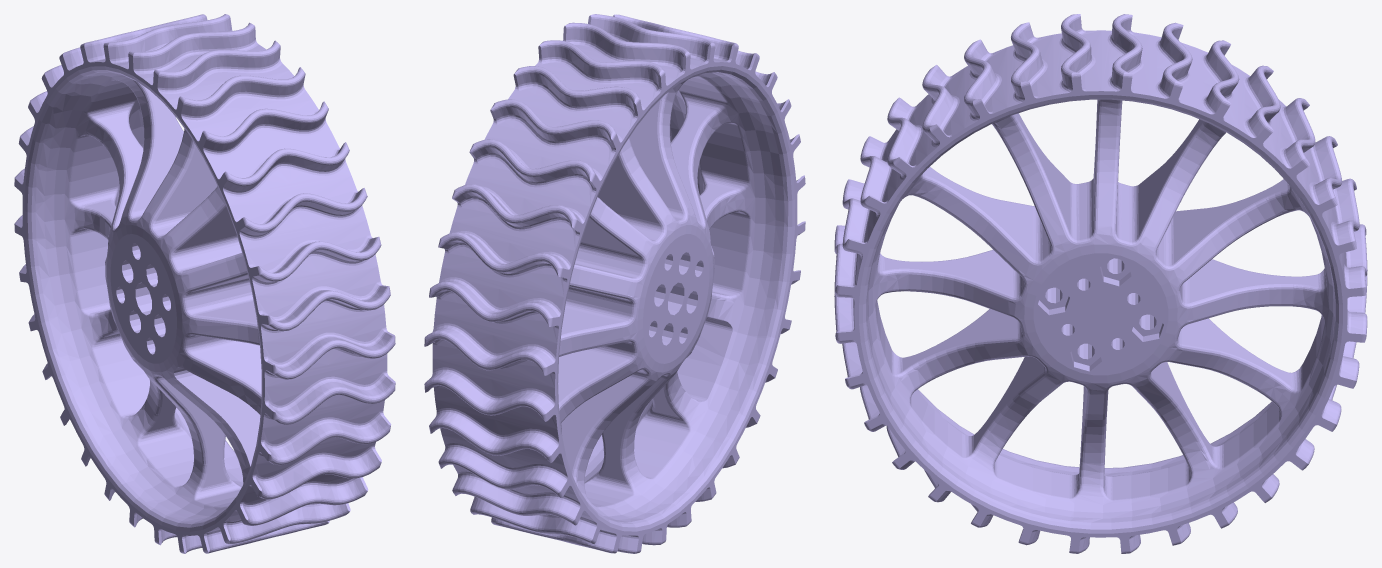
Rendered from Back Right Wheel.glb.
3 renders of one model, left to right at view 1: azimuth 30°, elevation 25°; view 2: azimuth 150°, elevation 25°; view 3: azimuth 270°, elevation 25°, orthographic.
Bounding box in the file's own units: 0.035 × 0.1298 × 0.1298.
